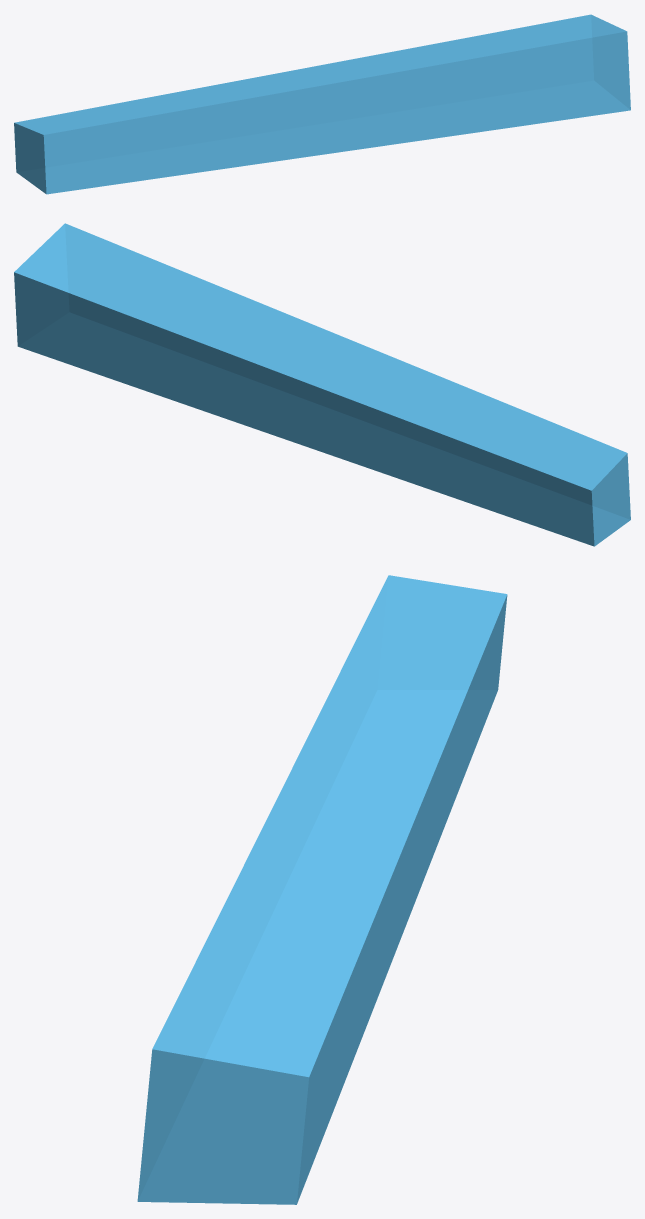
The model's file is Event_420107950_HErechit_26.fbx.
3 renders of one model, top to bottom at view 1: azimuth 30°, elevation 25°; view 2: azimuth 150°, elevation 25°; view 3: azimuth 270°, elevation 25°, orthographic. The views are drawn at different scales.
Parts seen in each view (by area): view 1: Model; view 2: Model; view 3: Model.
Part boxes in pixels (x1=…): Model: x1=14, y1=14, x2=630, y2=194; Model: x1=14, y1=223, x2=630, y2=546; Model: x1=137, y1=575, x2=507, y2=1204.
Size of the model in its own units: 3.36 by 0.4648 by 1.02.
